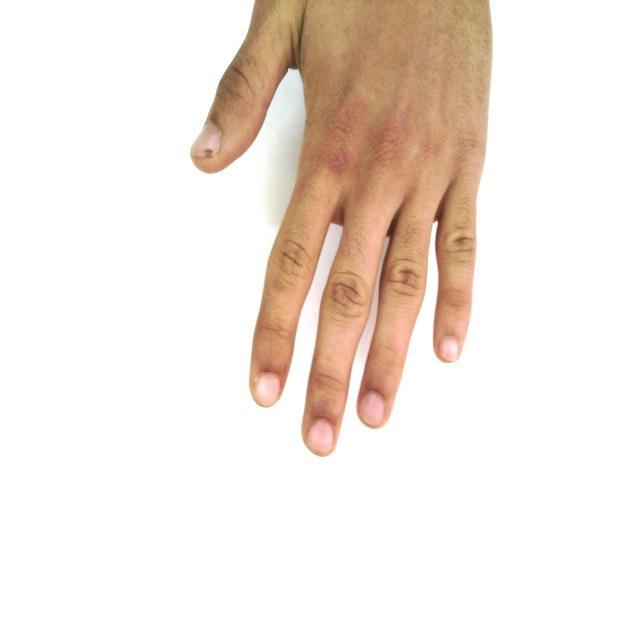Fingernail: (192, 123, 220, 156), (307, 420, 333, 453), (256, 374, 280, 405), (361, 393, 383, 424), (440, 338, 458, 361)
